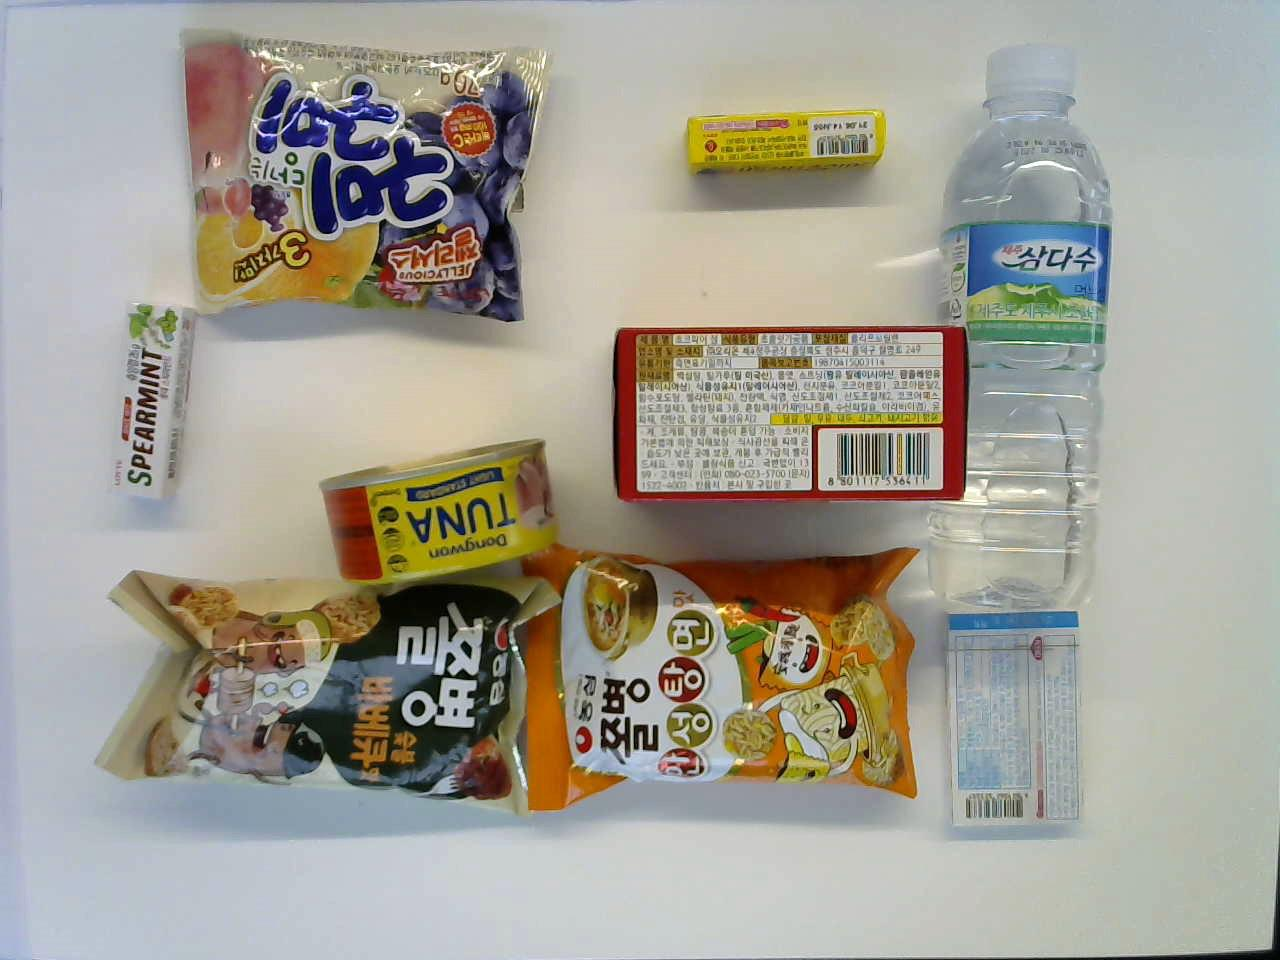ID_gum: (934, 604, 1092, 838)
chocopie: (608, 326, 972, 498)
gumi_gumi: (171, 24, 541, 337)
jjolbyung_noodle: (520, 538, 927, 819)
jjolbyung_ori: (85, 568, 558, 816)
juicyfresh: (675, 104, 898, 181)
samdasu: (918, 40, 1128, 612)
spearmint: (107, 297, 196, 507)
tuna: (317, 438, 565, 592)
